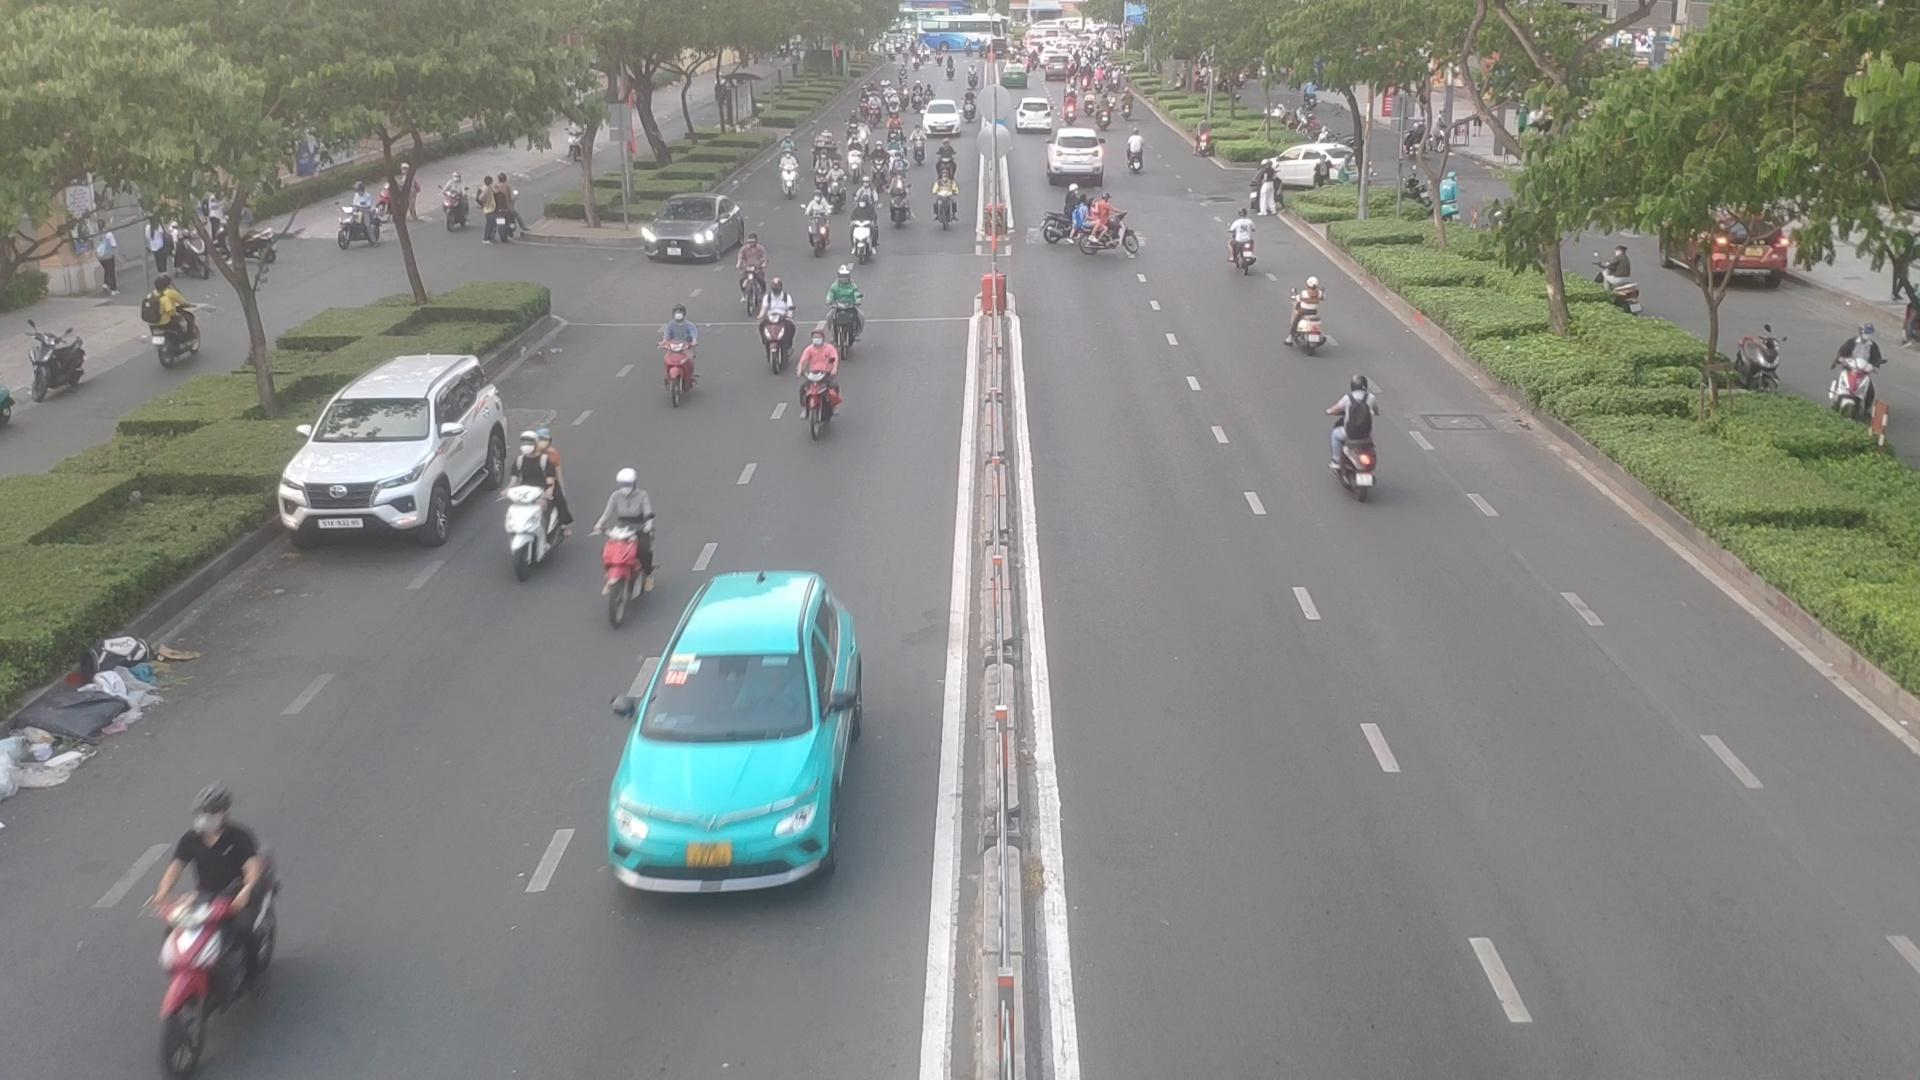car: (603, 571, 861, 891), (272, 351, 513, 541), (1245, 138, 1371, 200), (640, 198, 749, 266), (1046, 127, 1102, 187)
motorbike: (144, 810, 264, 1080), (599, 469, 655, 628), (504, 425, 560, 578), (1331, 378, 1385, 502), (650, 295, 699, 407), (1072, 193, 1139, 256), (798, 332, 833, 435), (825, 258, 858, 353), (760, 280, 794, 371), (731, 231, 767, 315), (1290, 276, 1317, 361), (1229, 210, 1258, 280), (851, 196, 878, 262), (1125, 128, 1153, 182), (884, 170, 909, 229), (934, 167, 953, 225), (936, 145, 960, 190), (807, 152, 833, 191), (869, 144, 889, 185), (810, 191, 823, 251), (781, 152, 795, 204), (907, 128, 927, 164), (829, 164, 844, 211), (848, 138, 861, 178), (886, 136, 899, 166)
